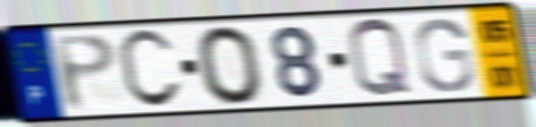8: (269, 24, 326, 101)
C: (115, 26, 186, 113)
G: (412, 16, 477, 95)
O: (192, 23, 267, 108)
P: (48, 30, 121, 114)
Q: (344, 15, 416, 102)
